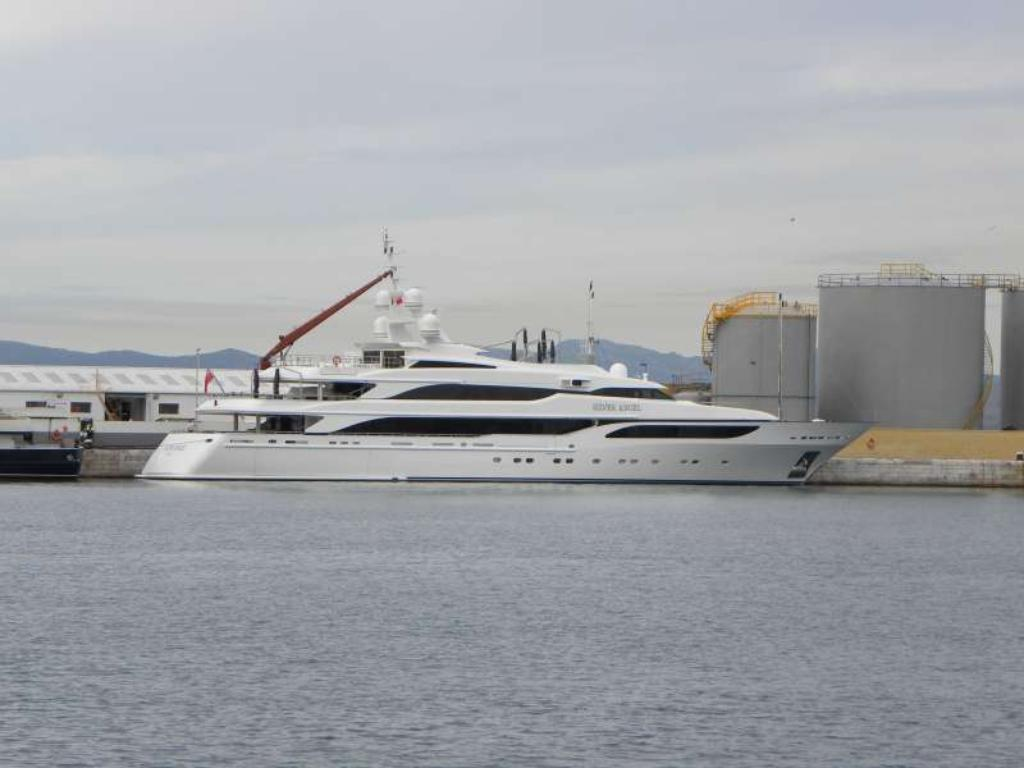PassengerShip: (140, 275, 882, 491)
